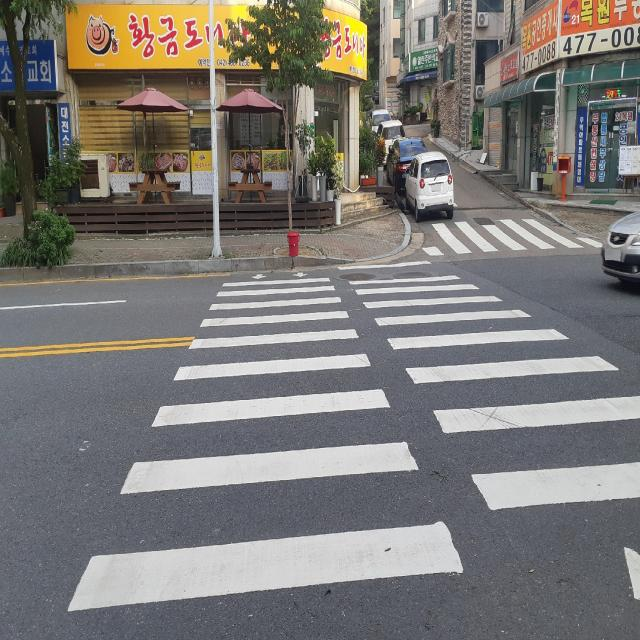횡단보도: (67, 259, 640, 614), (416, 212, 604, 256)
